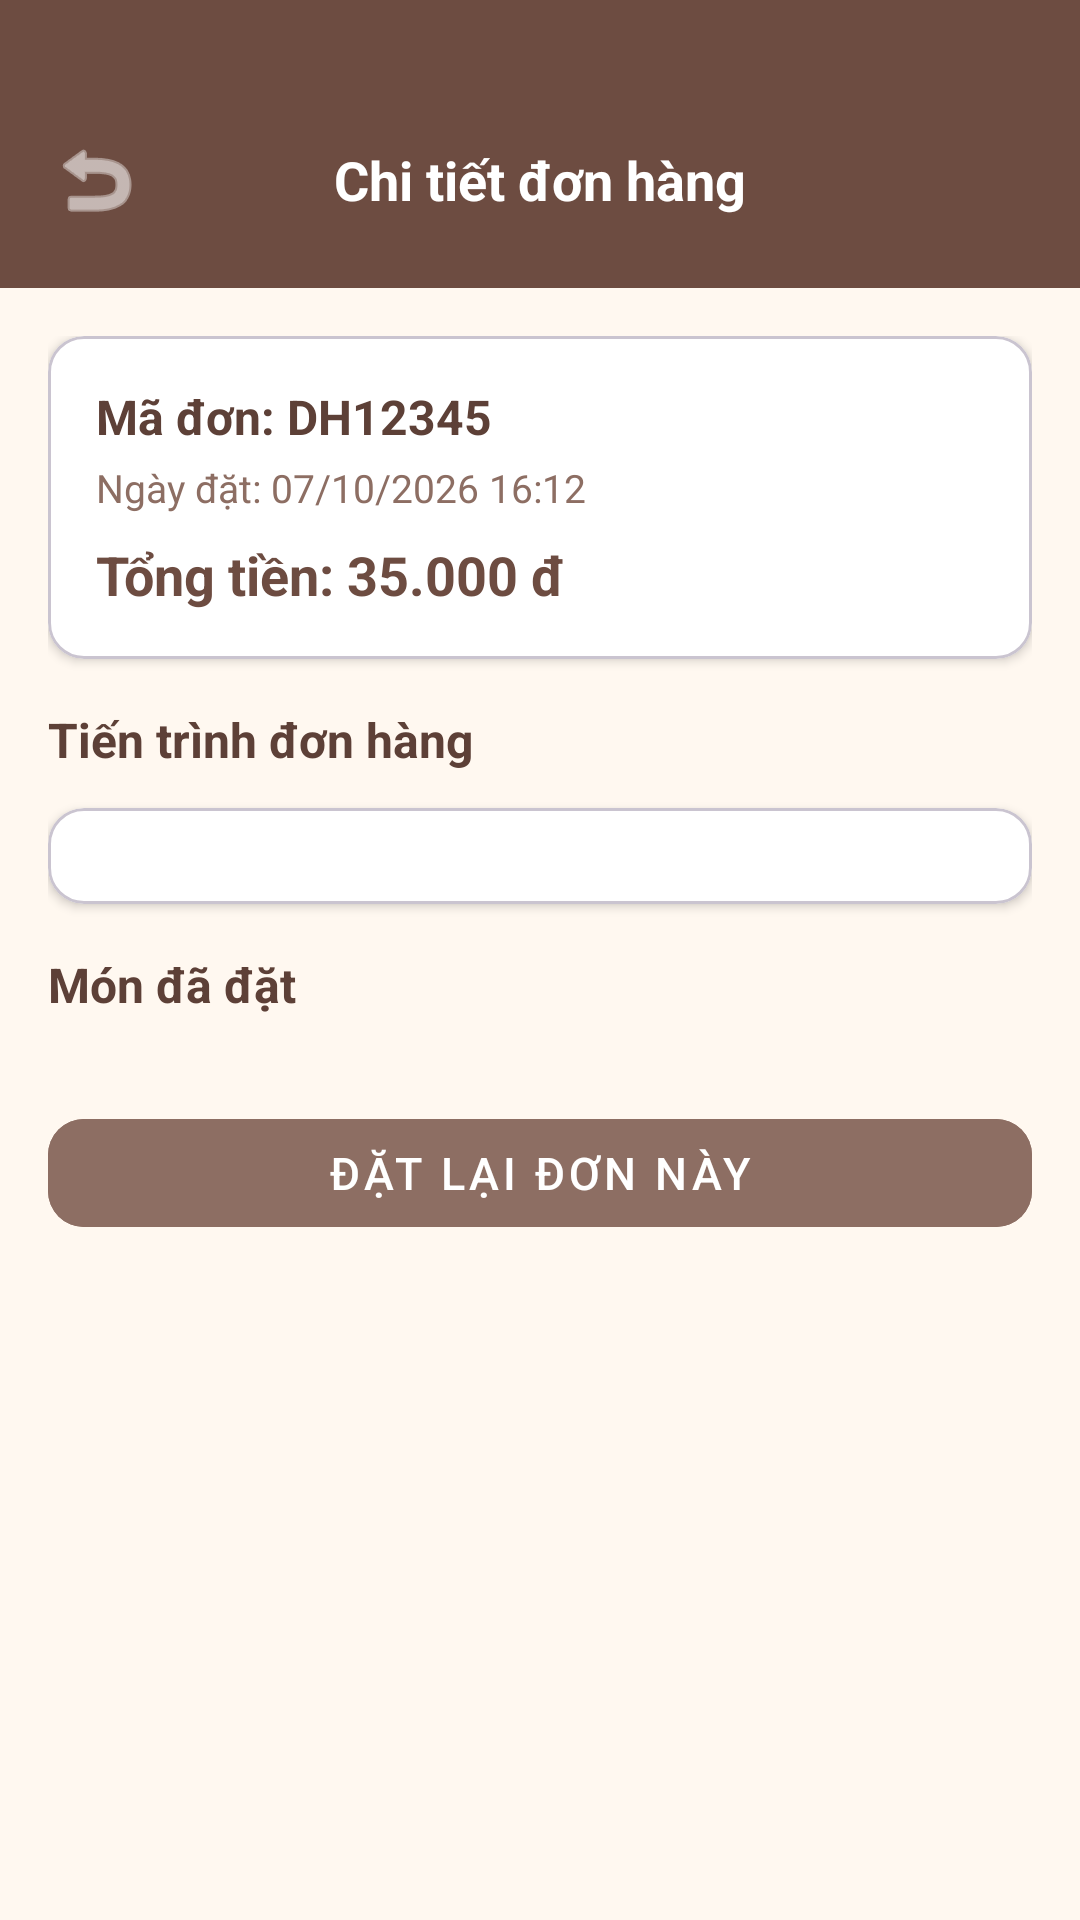

Named icons in this screenshot (1080x1920) and their bounding boxes, (x1, y1, x2, y2):
Quay lại: (63, 149, 132, 212)
